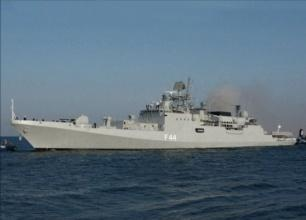warship: (6, 75, 298, 151)
